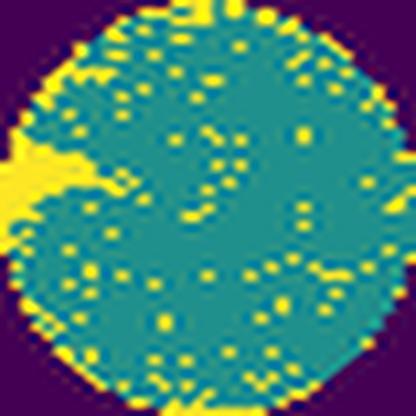Edge-Loc: (0, 118, 130, 260)
